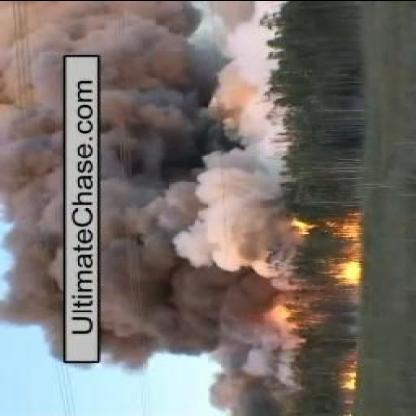-: (100, 25, 280, 372), (3, 29, 62, 339)
foggia-v2-map80-epoch100 - v1 4323: (336, 262, 364, 282), (339, 219, 360, 240)
